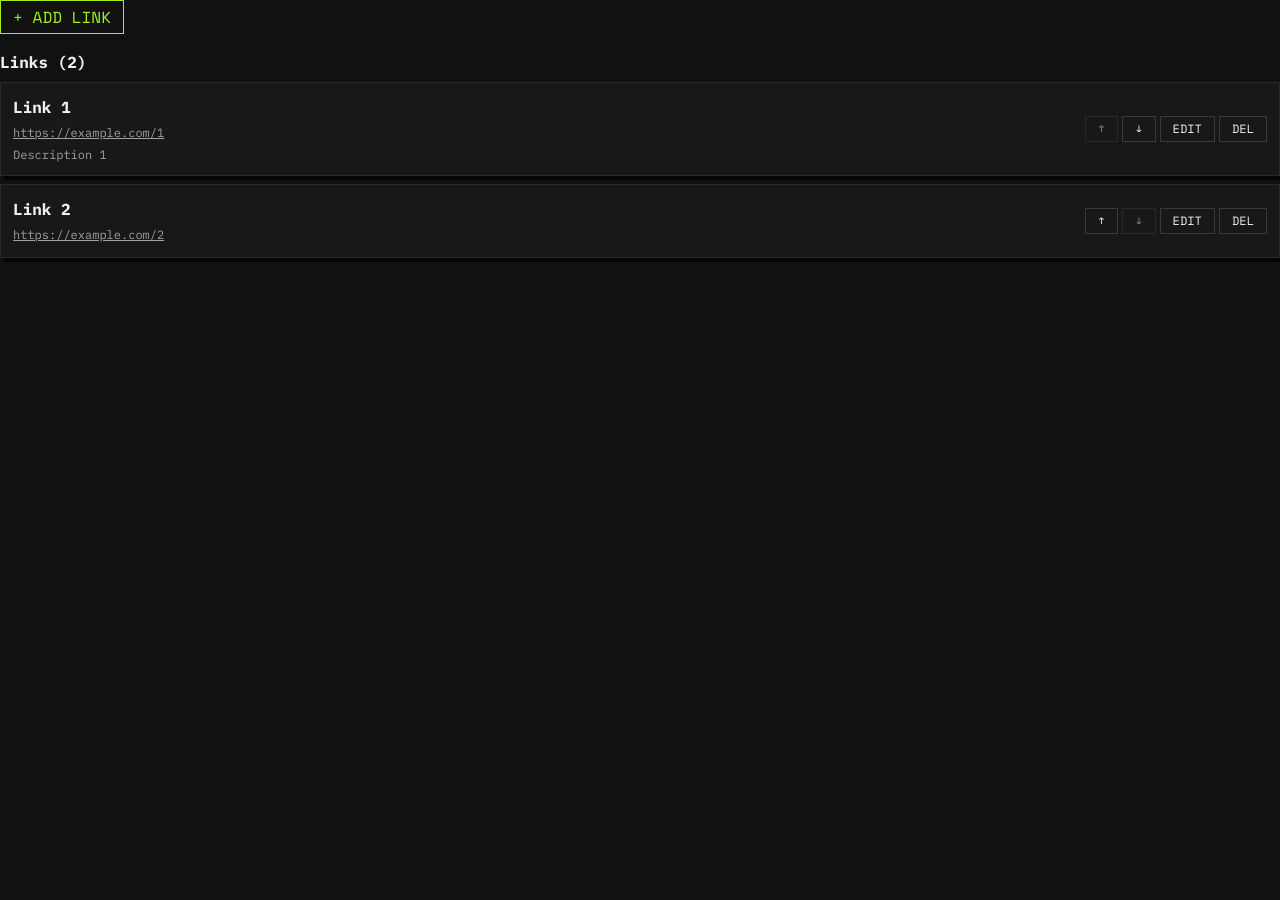
Test: LinkManager › deletes link successfully
This screenshot has width=1280, height=900.
Check: the text "Link 1" is shown, box x1=13 y1=97 x2=71 y2=117
Click the button "DEL" in the row of "https://example.com/1". click: [1243, 129]
box: x1=1219 y1=116 x2=1267 y2=142
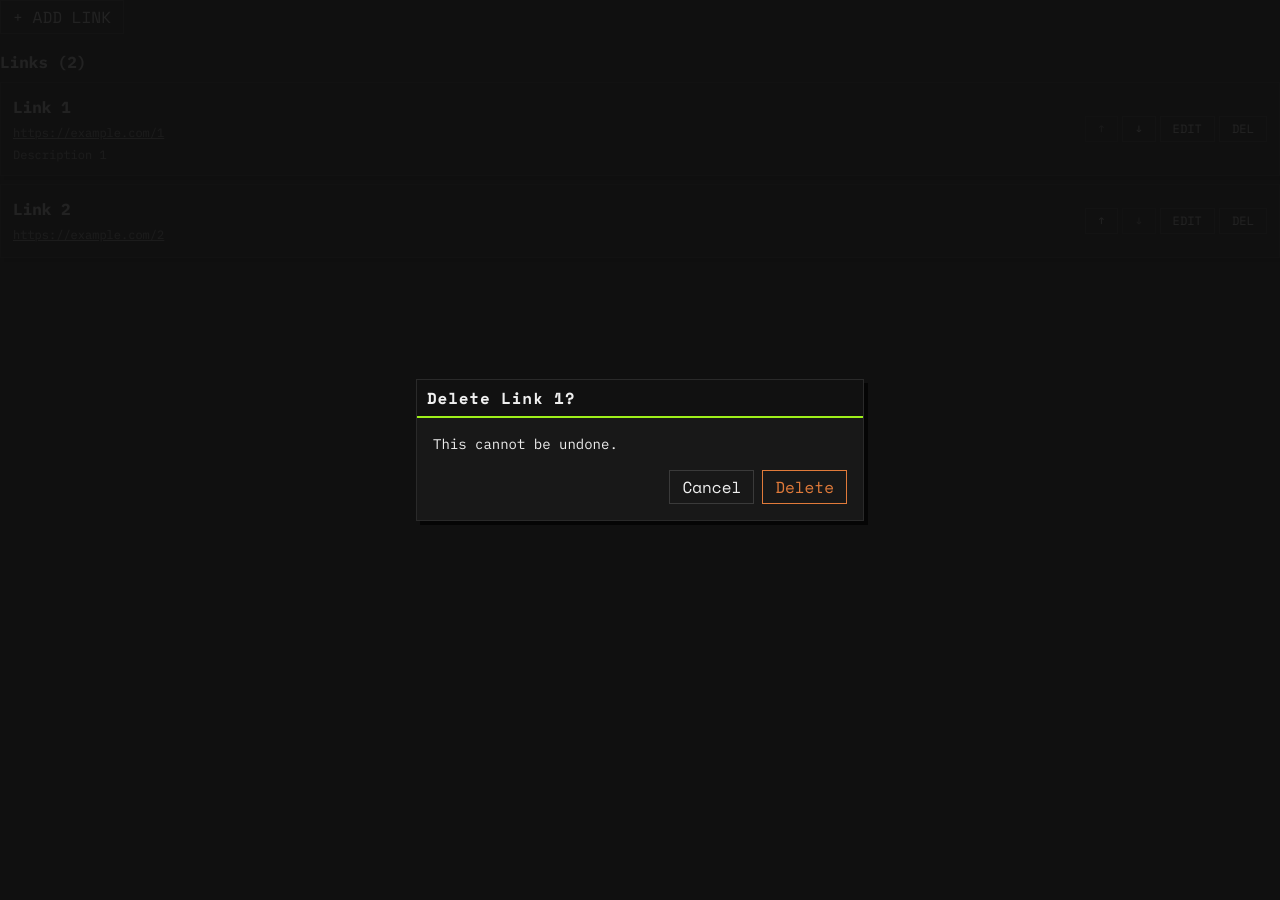
Check: the button "Delete" is shown
Click the button "Delete". click: [805, 487]
box: x1=762 y1=470 x2=847 y2=504
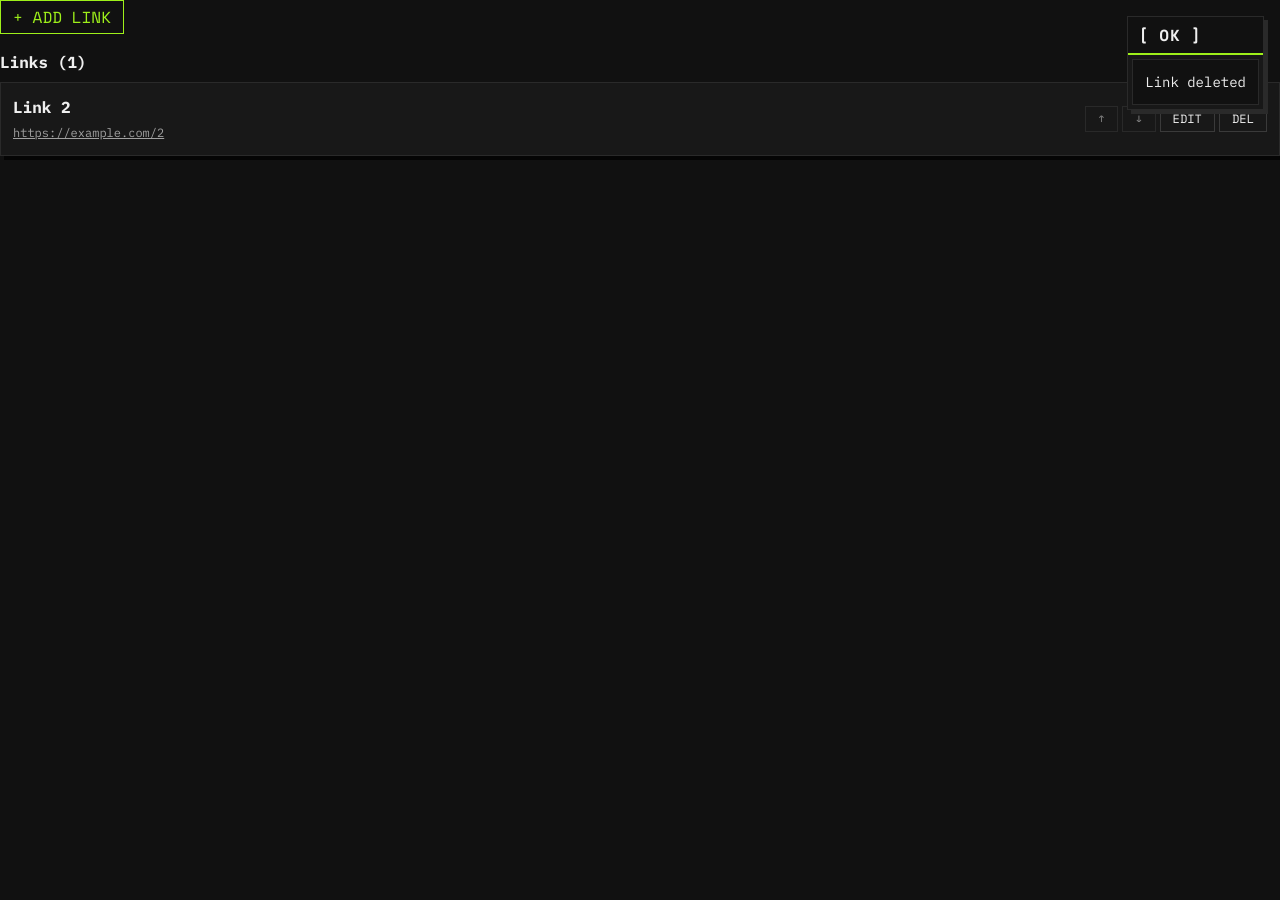
Check: the text "Link 1" is gone
